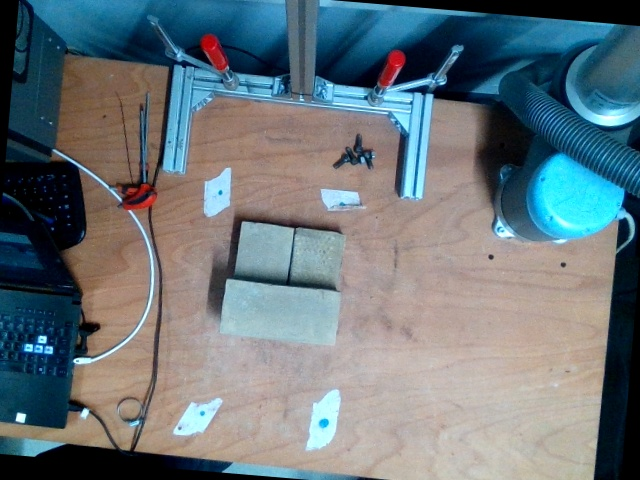brick: (219, 279, 342, 346)
